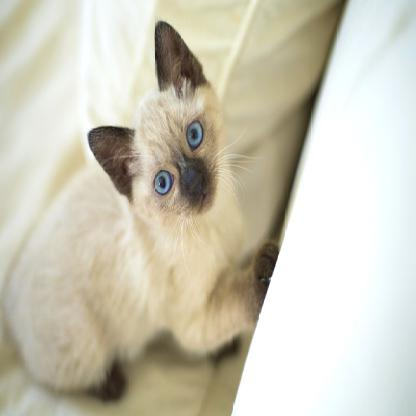cat: (5, 20, 280, 403)
